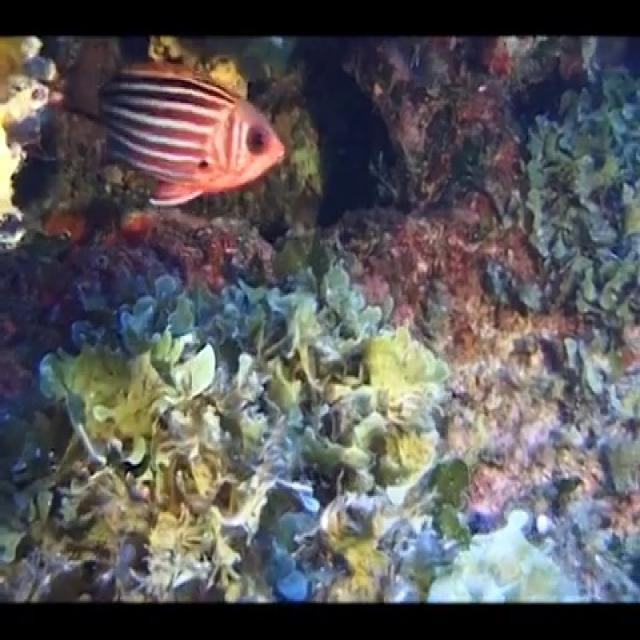Asker Baligi: (95, 55, 286, 210)
